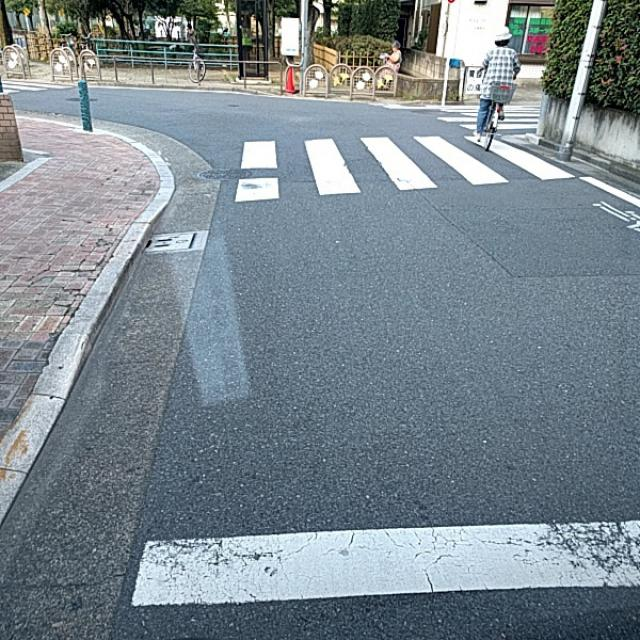pothole: (418, 520, 578, 589)
